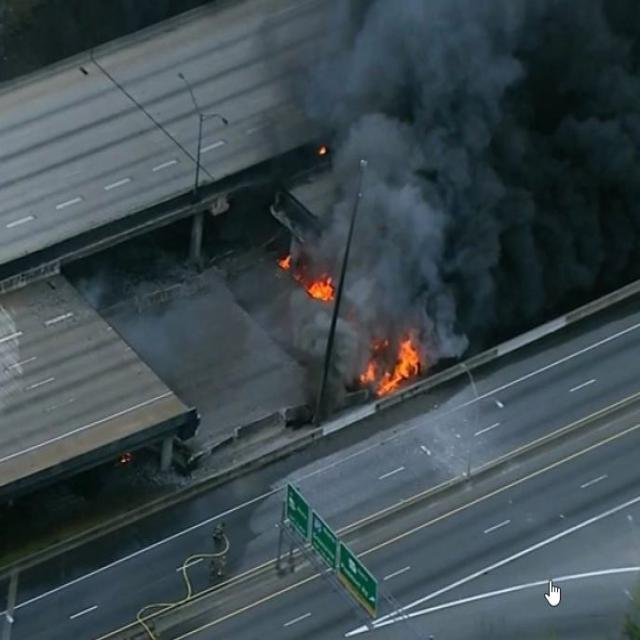Fire: (354, 332, 419, 393), (306, 274, 334, 305), (282, 255, 297, 267)
Smoke: (335, 0, 639, 335)
